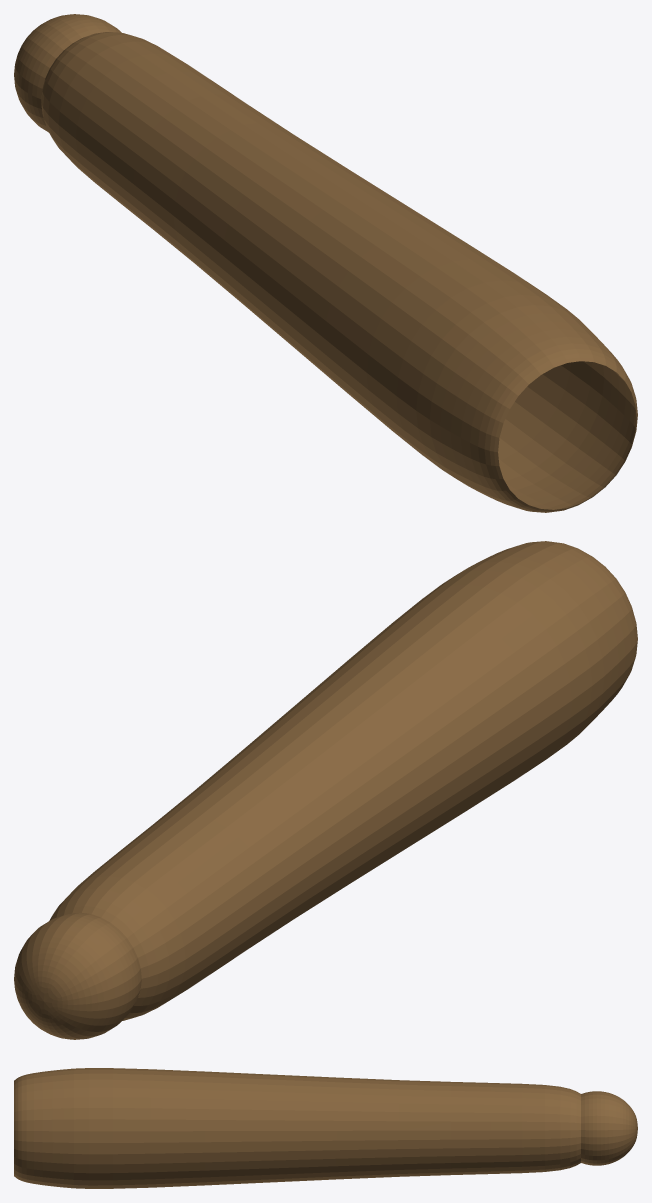
Rendered from RAsegment_joint_visu.dae.
3 views of the same model, one above another, from view 1: azimuth 30°, elevation 25°; view 2: azimuth 150°, elevation 25°; view 3: azimuth 270°, elevation 25° (orthographic). The views are drawn at different scales.
Visible parts, largest first — view 1: node; view 2: node; view 3: node.
Boxes of the visible parts, box(x1,y1,x2,y2) form: node: box(14, 14, 637, 512); node: box(14, 541, 637, 1039); node: box(14, 1068, 637, 1188).
Bounding box in the file's own units: 0.0487 × 0.0487 × 0.2505.
